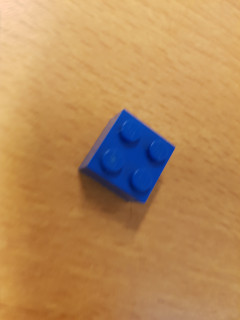2x2 blue: (76, 107, 177, 207)
